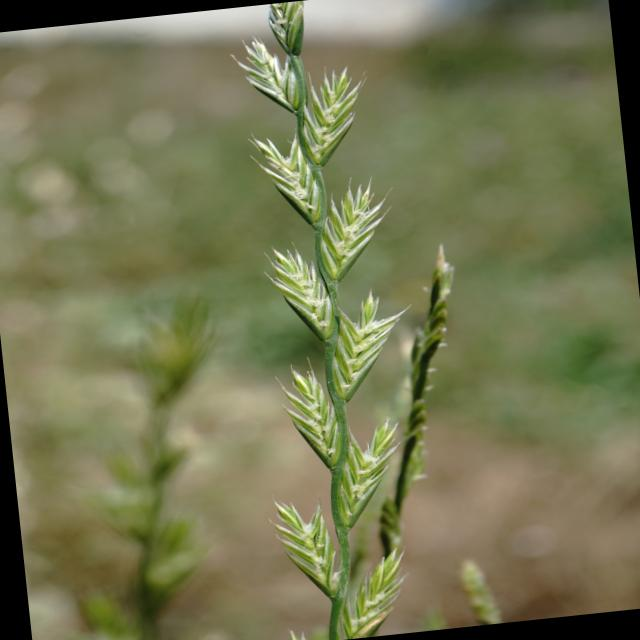Lolium: (214, 0, 496, 640), (47, 297, 247, 640)
